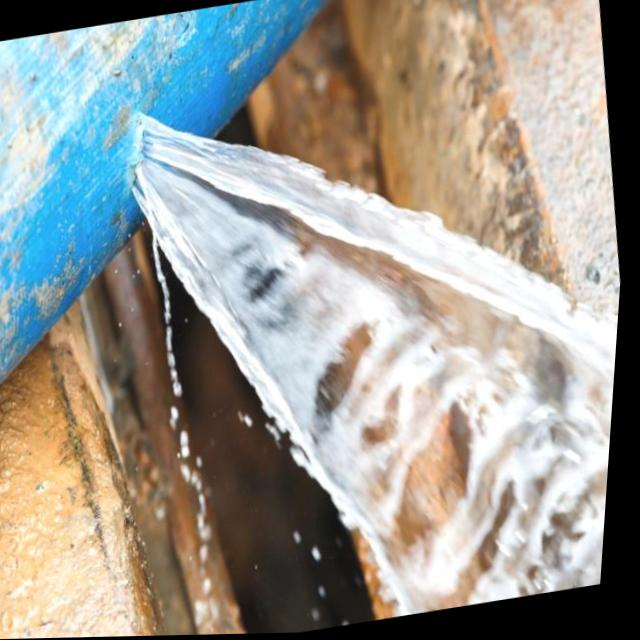leak: (121, 94, 618, 635)
